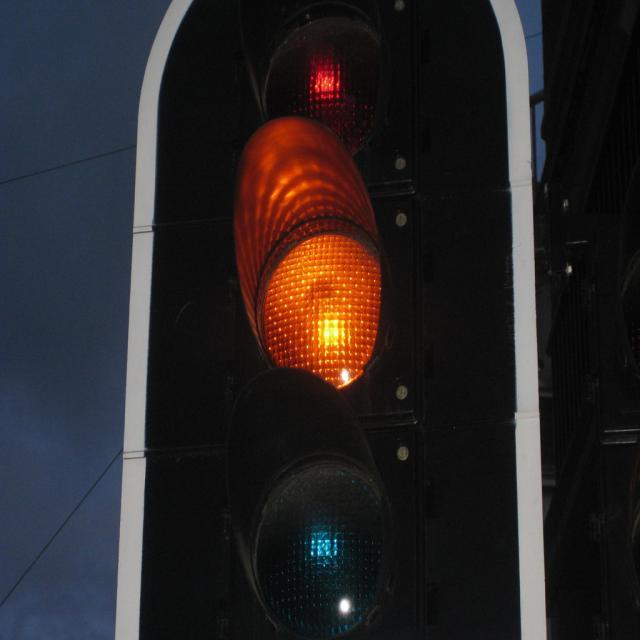traffic light: (149, 0, 531, 640)
